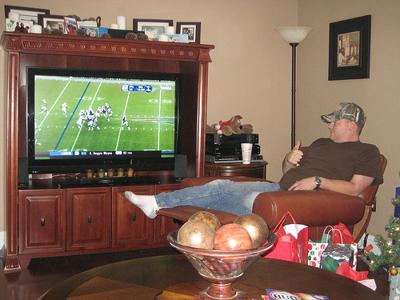person: (123, 102, 385, 219)
